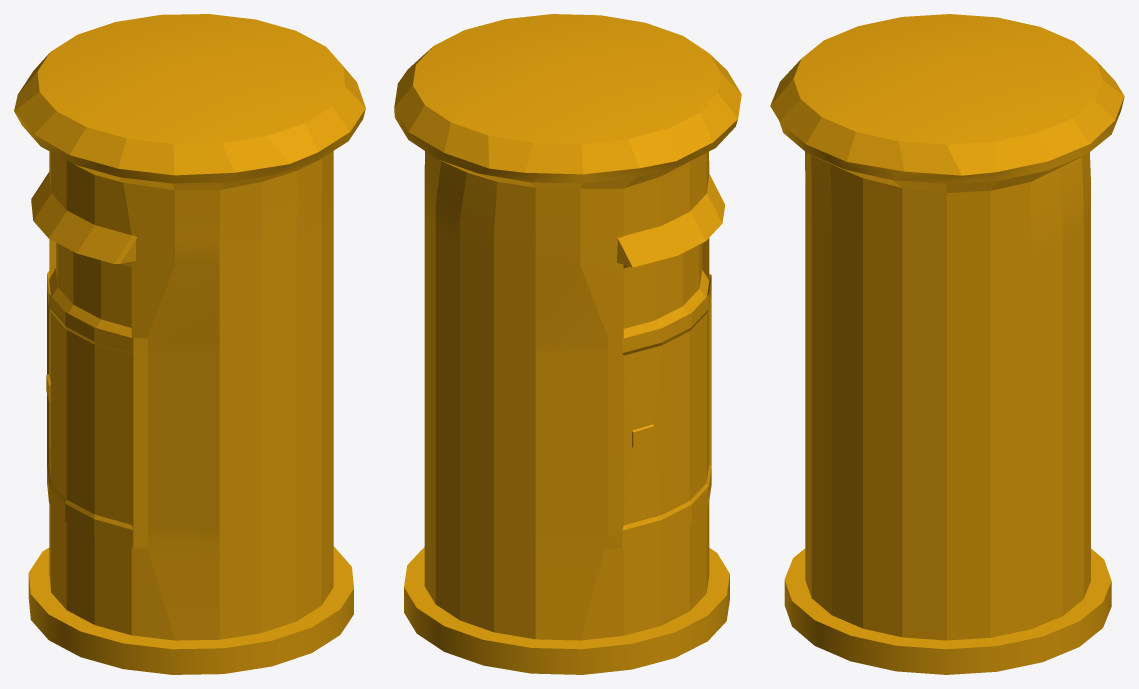
The model's file is w_amenity_post_box.glb.
3 renders of one model, left to right at view 1: azimuth 30°, elevation 25°; view 2: azimuth 150°, elevation 25°; view 3: azimuth 270°, elevation 25°, orthographic.
Parts seen in each view (by area): view 1: postbox.001; view 2: postbox.001; view 3: postbox.001.
Part boxes in pixels (bbox=[...]): postbox.001: bbox=[14, 14, 365, 674]; postbox.001: bbox=[394, 14, 741, 674]; postbox.001: bbox=[770, 14, 1124, 674].
Bounding box in the file's own units: 0.862 × 1.47 × 0.8719.
